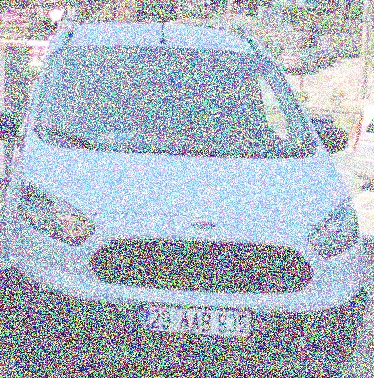plaka: (149, 302, 253, 339)
